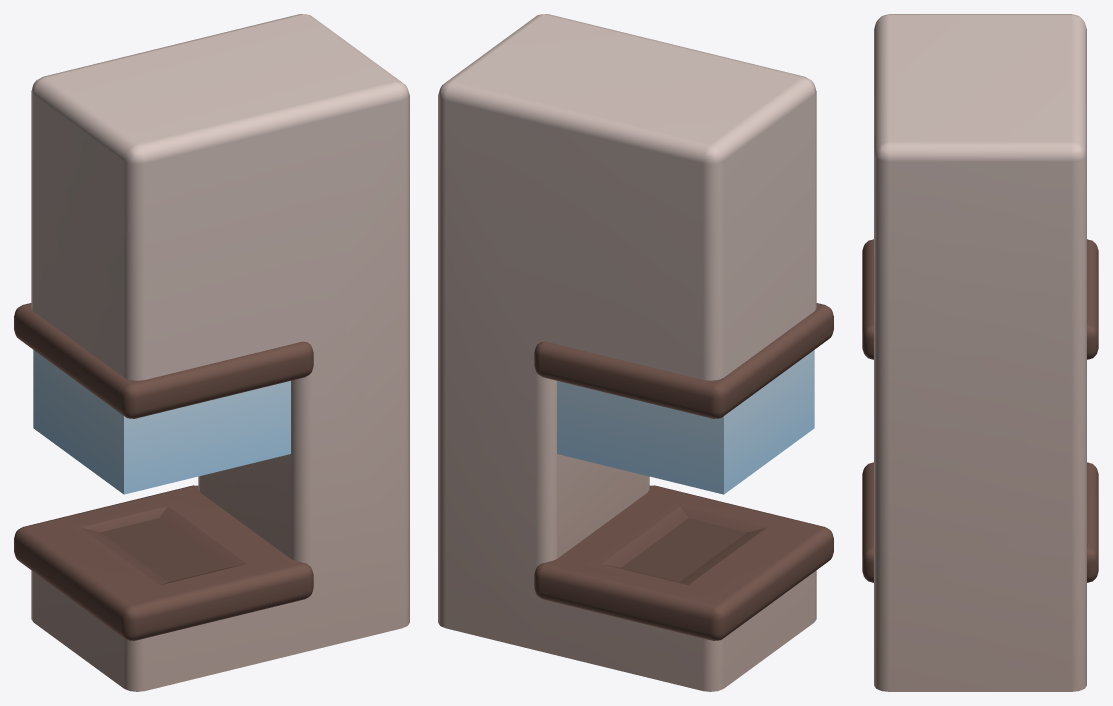
File: Fireplace_04.glb
The picture shows the model from 3 angles, left to right: view 1: azimuth 30°, elevation 25°; view 2: azimuth 150°, elevation 25°; view 3: azimuth 270°, elevation 25°; orthographic projection.
Visible parts, largest first — view 1: Fireplace_04; view 2: Fireplace_04; view 3: Fireplace_04.
Part boxes in pixels (<box>): Fireplace_04: <box>14,14,409,691</box>; Fireplace_04: <box>438,14,833,691</box>; Fireplace_04: <box>862,14,1098,691</box>.
Size of the model in its own units: 0.88 by 1.55 by 0.61.
2 materials, 2 textured.
